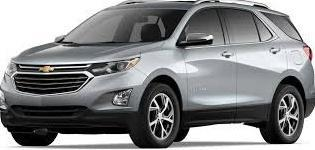SUV: (1, 4, 315, 149)
